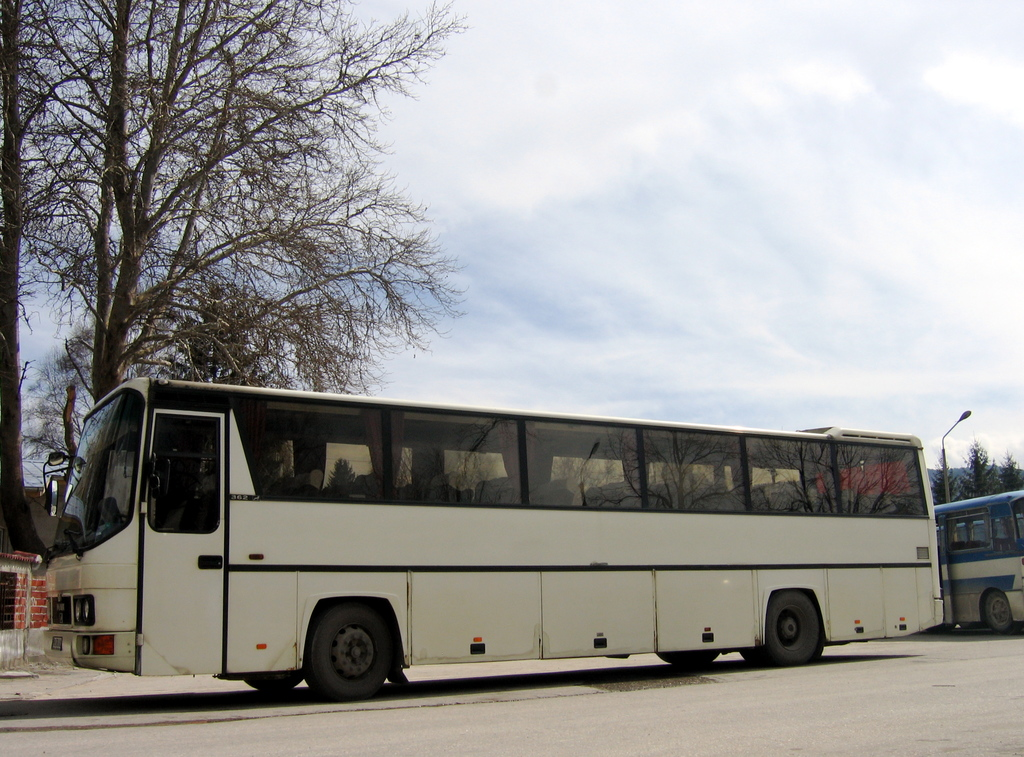Bus: (33, 374, 947, 700), (929, 492, 1023, 640)
